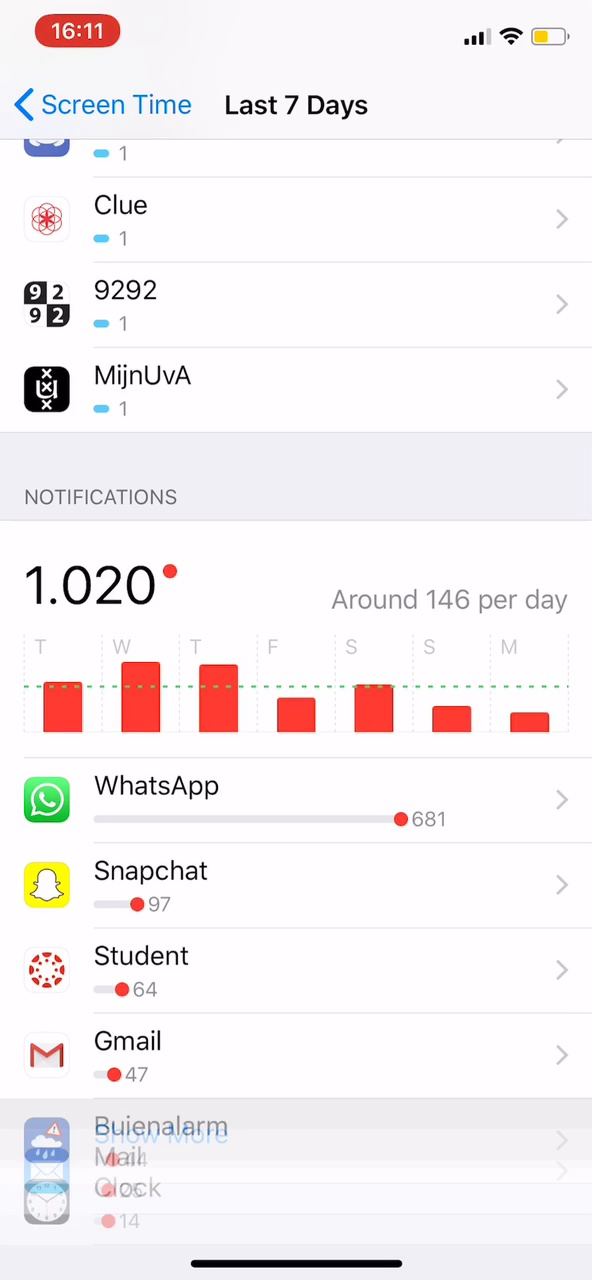not_app: (14, 760, 490, 844), (14, 1013, 370, 1100), (12, 932, 304, 1011), (12, 846, 293, 927)
not_over: (7, 461, 243, 627)
pick_app: (25, 258, 342, 349), (25, 175, 329, 263), (17, 355, 351, 422)
week: (217, 87, 388, 122)
